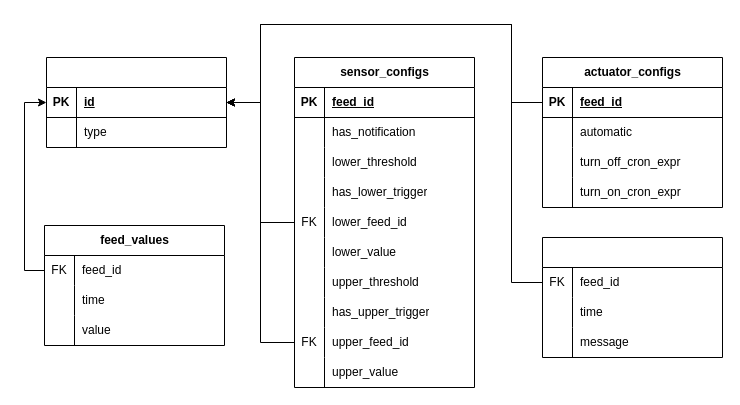
Image size: 740x405. Some labels were removed from this diagram. The box of each missing label's shape, as (x1, y1, x2, y2) in pixels:
feeds: (46, 56, 226, 148)
notifications: (542, 236, 722, 358)
